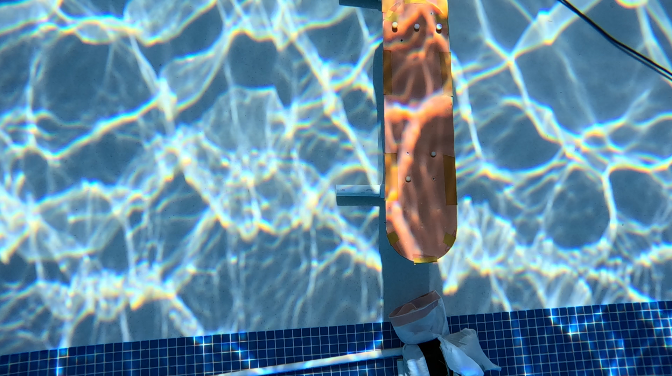pathmarker: (380, 0, 457, 261)
